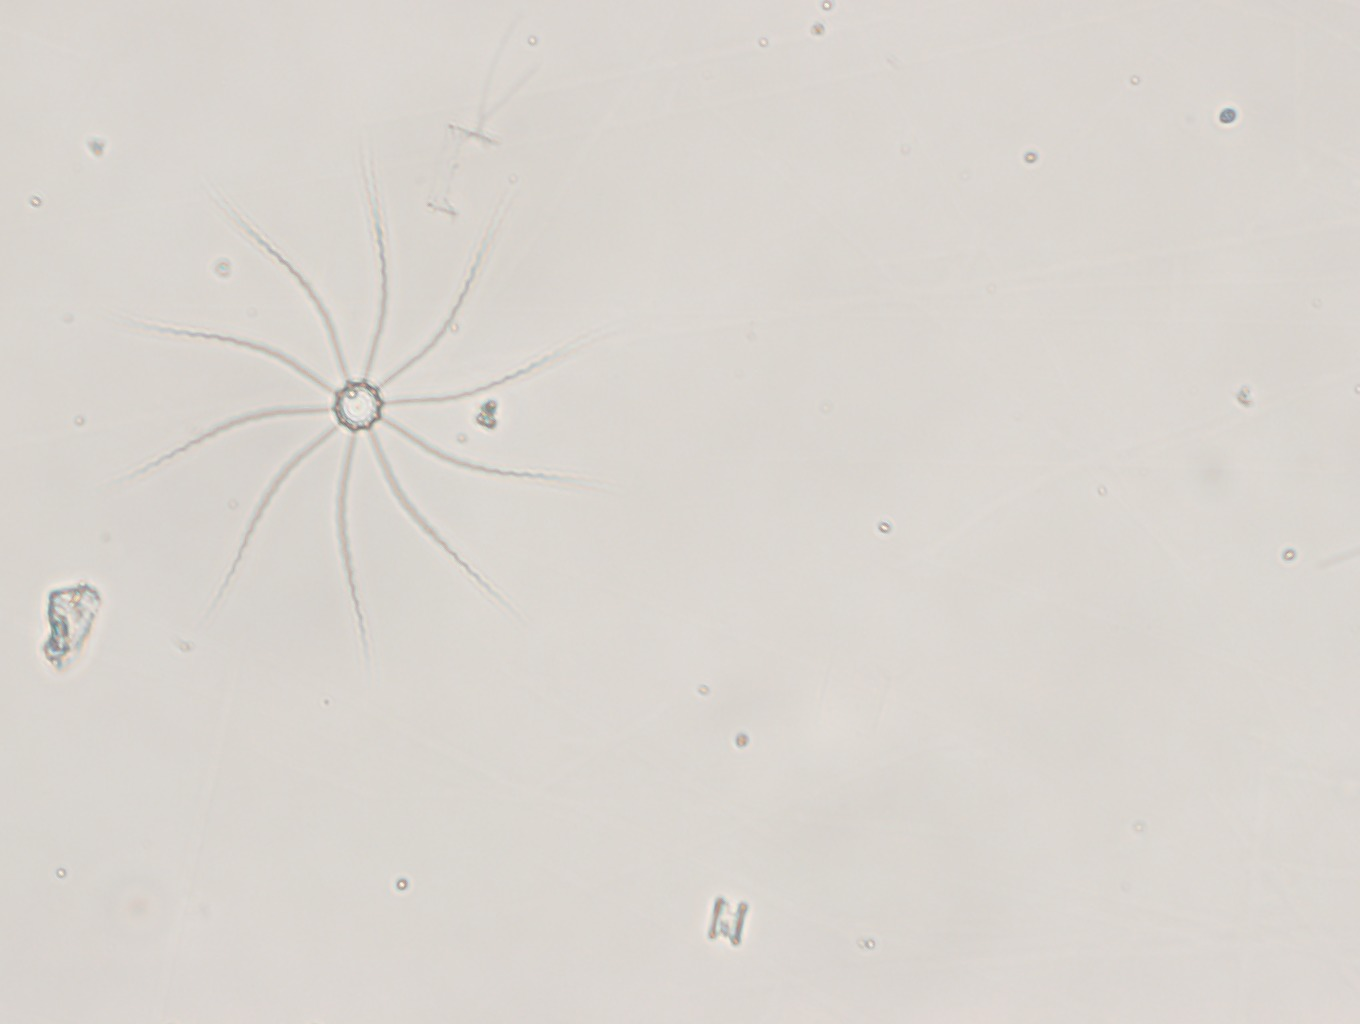bacteriastrum: (123, 163, 595, 668)
